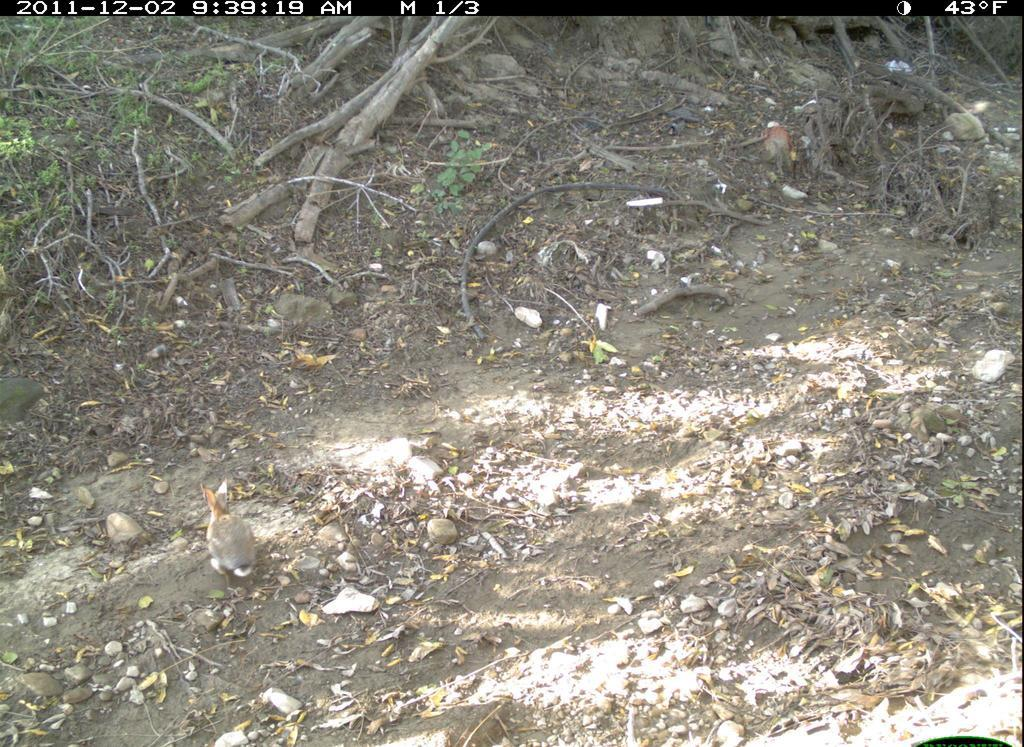rabbit: (180, 482, 282, 593)
